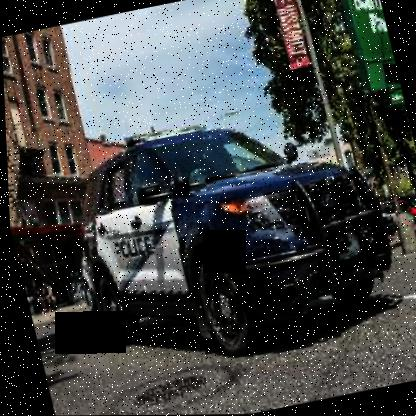emergency: (43, 79, 411, 381)
